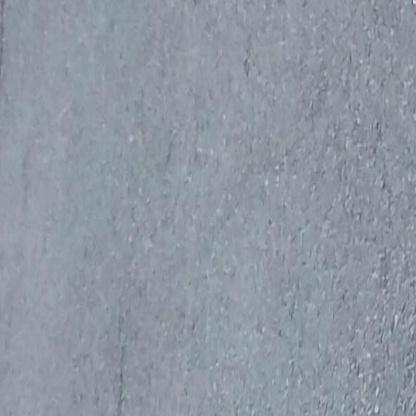Cracks: (102, 314, 135, 416), (407, 110, 416, 312), (0, 0, 12, 93)
